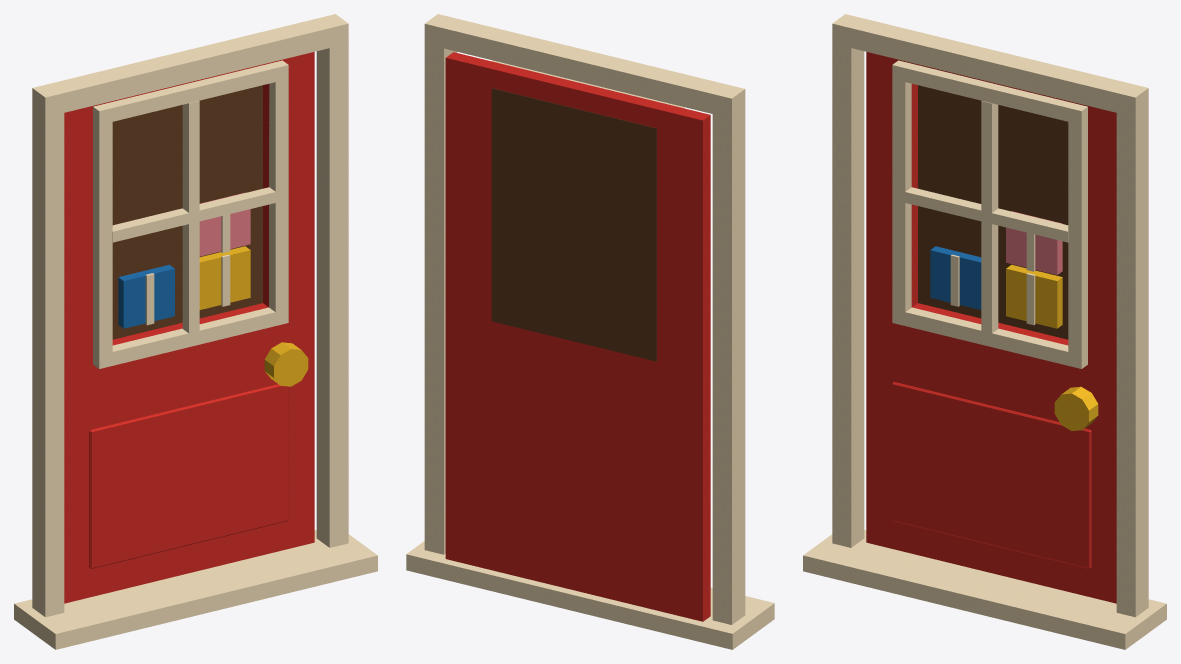
Rendered from door.fbx.
The picture shows the model from 3 angles, left to right: view 1: azimuth 30°, elevation 25°; view 2: azimuth 150°, elevation 25°; view 3: azimuth 330°, elevation 25°; orthographic projection.
Parts seen in each view (by area): view 1: door; view 2: door; view 3: door.
Part boxes in pixels (bbox=[...]): door: bbox=[14, 14, 377, 649]; door: bbox=[406, 14, 774, 649]; door: bbox=[803, 14, 1166, 649].
Size of the model in its own units: 1700 by 2700 by 380.
1 material, 1 textured.
